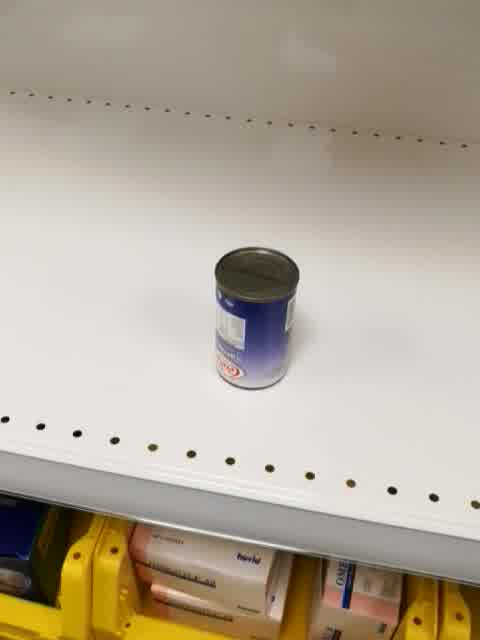sardine: (213, 246, 300, 393)
